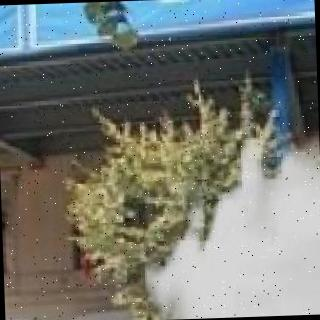smoke: (117, 93, 320, 320)
